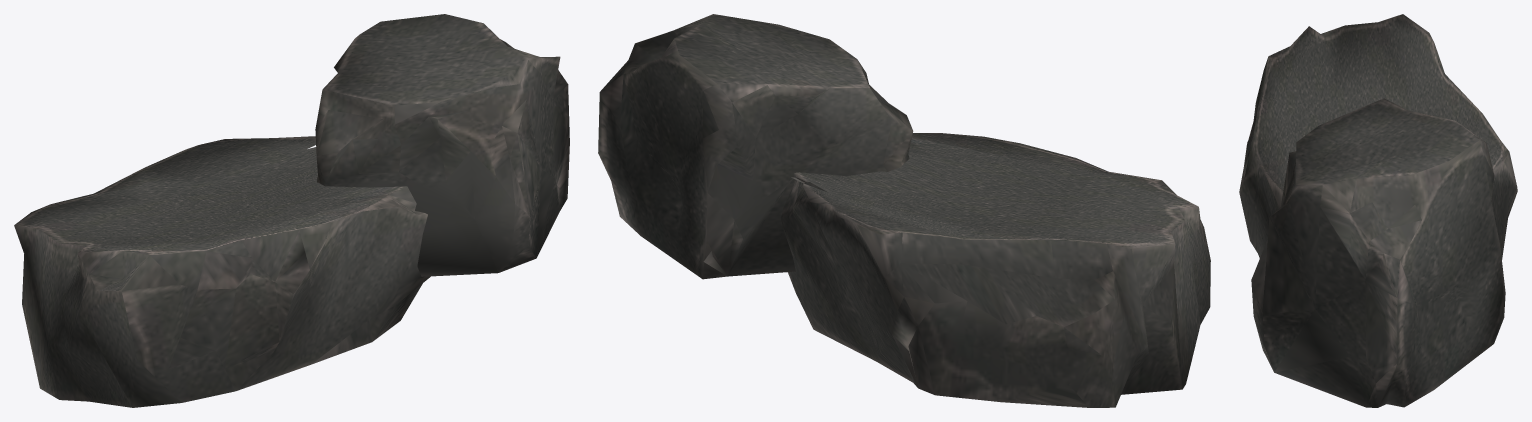
The model's file is cliff_stone_ledge.gltf.
3 renders of one model, left to right at view 1: azimuth 30°, elevation 25°; view 2: azimuth 150°, elevation 25°; view 3: azimuth 270°, elevation 25°, orthographic. The views are drawn at different scales.
Parts seen in each view (by area): view 1: cliff_stone_ledge; view 2: cliff_stone_ledge; view 3: cliff_stone_ledge.
Boxes of the visible parts, box(x1,y1,x2,y2) form: cliff_stone_ledge: box(14, 14, 569, 407); cliff_stone_ledge: box(598, 14, 1210, 407); cliff_stone_ledge: box(1239, 14, 1517, 407).
Bounding box in the file's own units: 2.3 × 0.97 × 0.92.
1 material, 1 textured.
